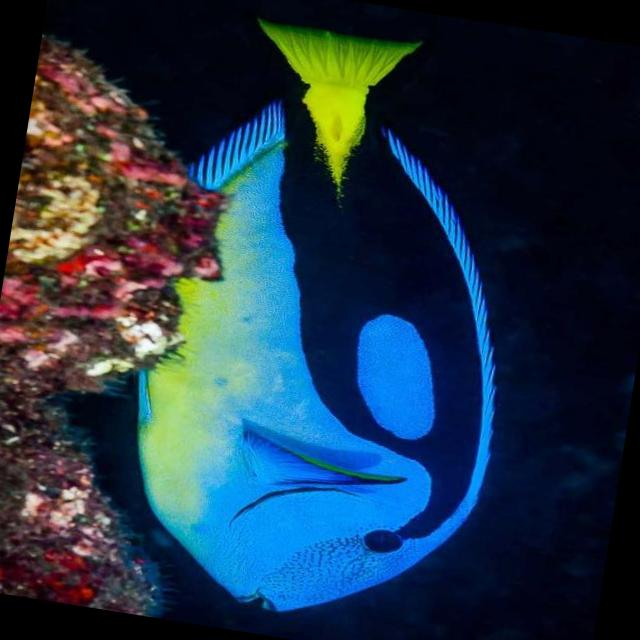BlueTang: (101, 5, 553, 640)
